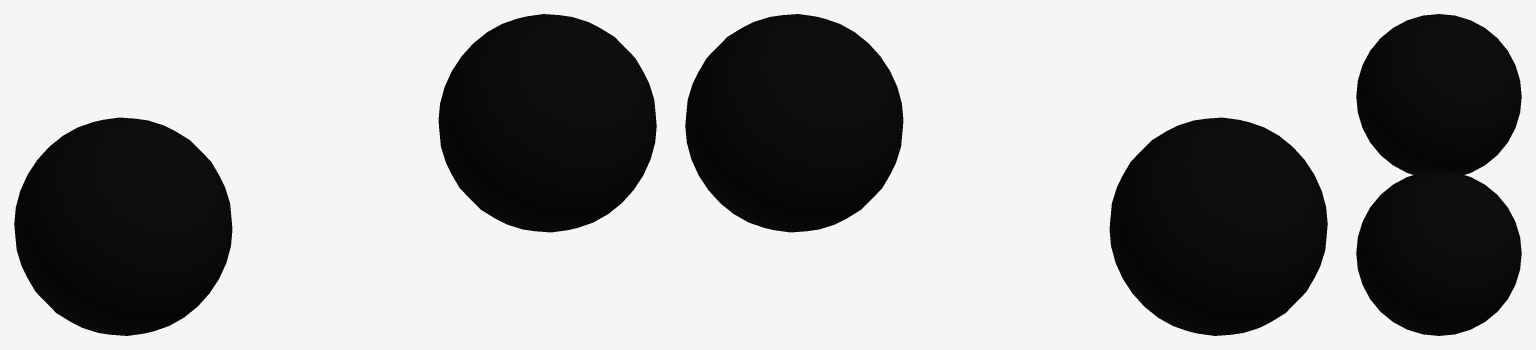
File: bat_eye.obj
3 renders of one model, left to right at view 1: azimuth 30°, elevation 25°; view 2: azimuth 150°, elevation 25°; view 3: azimuth 270°, elevation 25°, orthographic. The views are drawn at different scales.
Parts seen in each view (by area): view 1: 目; view 2: 目; view 3: 目.
Part boxes in pixels (x1,y1,x2,y2): 目: (14,14,656,335); 目: (685,14,1327,335); 目: (1356,14,1521,335).
Bounding box in the file's own units: 0.6833 × 0.2109 × 0.2109.
